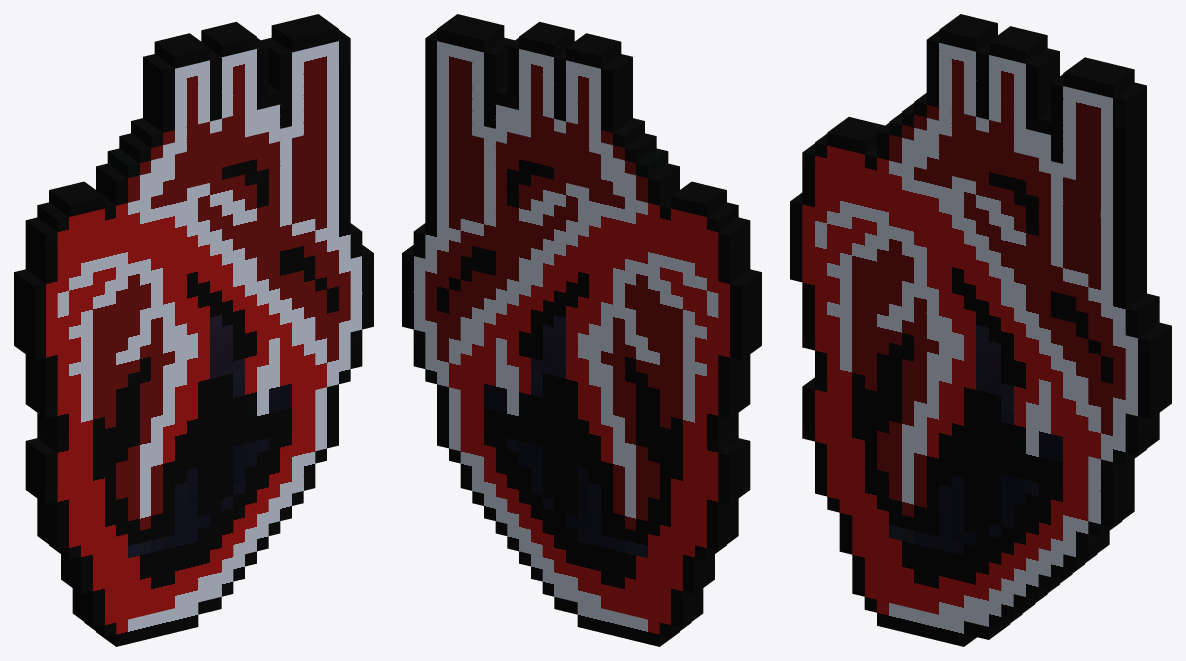
Rendered from heart.glb.
The picture shows the model from 3 angles, left to right: view 1: azimuth 30°, elevation 25°; view 2: azimuth 150°, elevation 25°; view 3: azimuth 330°, elevation 25°; orthographic projection. The views are drawn at different scales.
Visible parts, largest first — view 1: Object_4; view 2: Object_4; view 3: Object_4.
Part boxes in pixels (box(x1,y1,x2,y2)): Object_4: box(14, 14, 373, 646); Object_4: box(402, 14, 761, 646); Object_4: box(790, 14, 1171, 646).
Size of the model in its own units: 29 by 47 by 3.
1 material, 1 textured.
